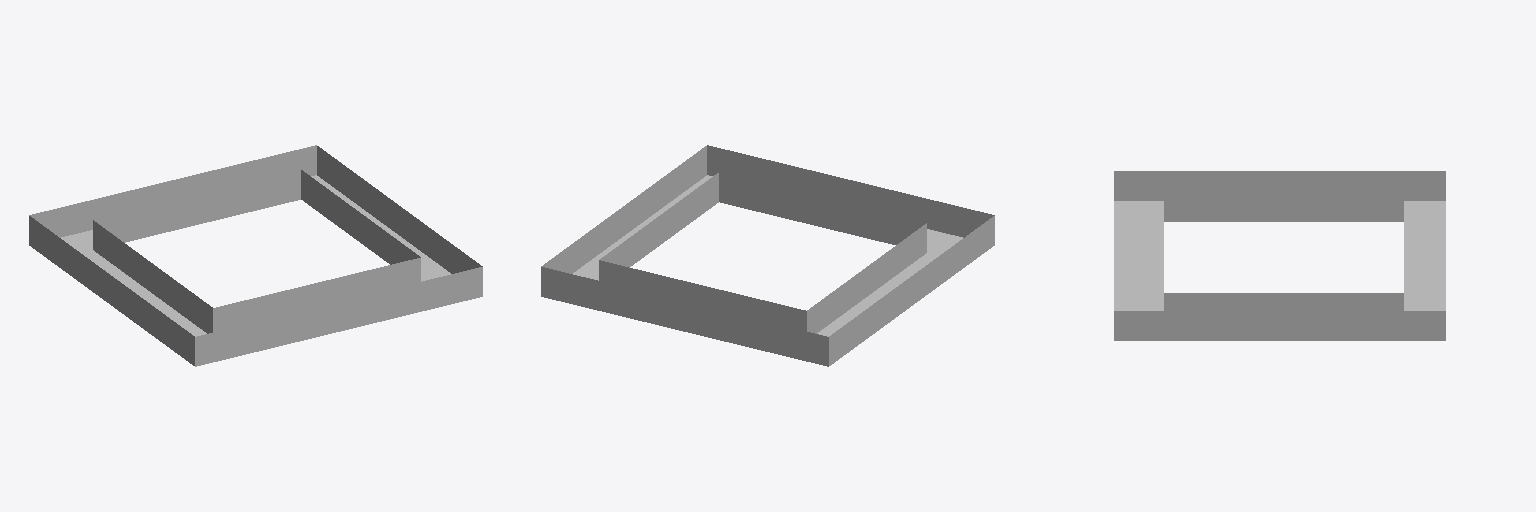
Rendered from hallway.obj.
3 renders of one model, left to right at view 1: azimuth 30°, elevation 25°; view 2: azimuth 150°, elevation 25°; view 3: azimuth 270°, elevation 25°, orthographic.
Parts seen in each view (by area): view 1: Cube; view 2: Cube; view 3: Cube.
Boxes of the visible parts, x1=… form: Cube: x1=29, y1=145, x2=482, y2=366; Cube: x1=541, y1=145, x2=994, y2=366; Cube: x1=1114, y1=171, x2=1445, y2=340.
Bounding box in the file's own units: 20 × 2 × 20.